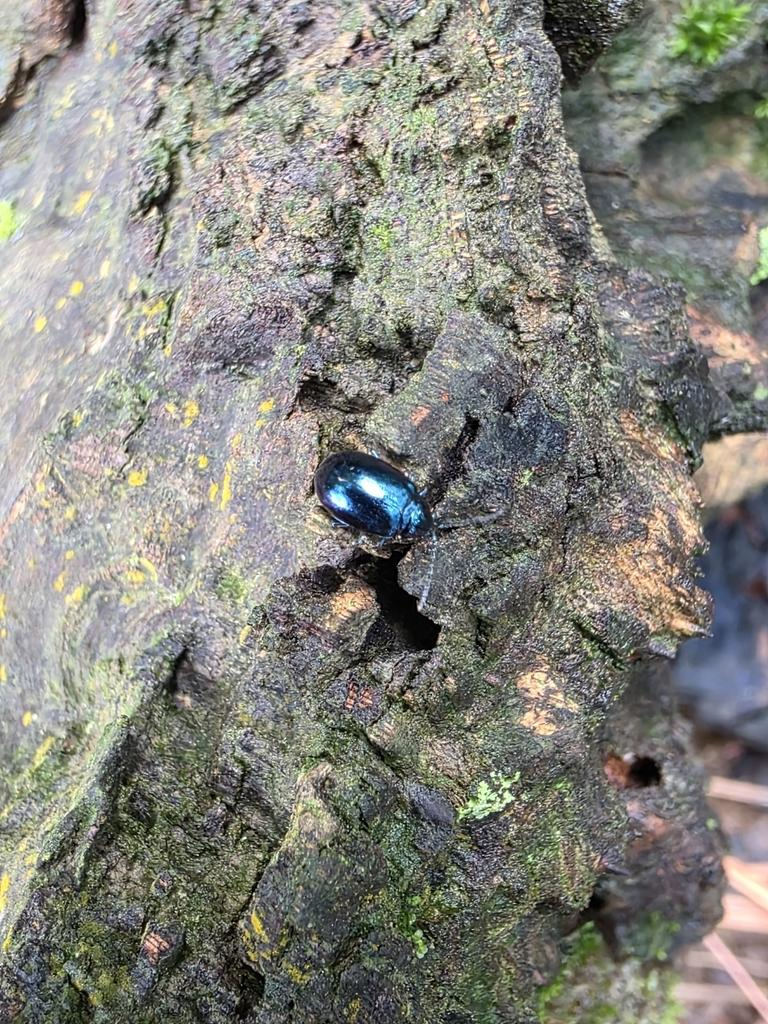flea_beetle: (272, 408, 503, 616)
